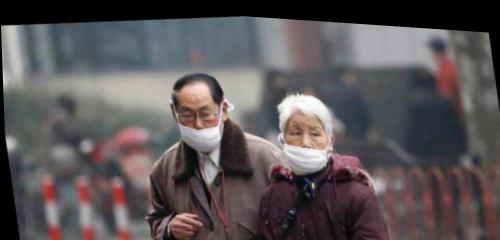WRONG: (175, 95, 227, 150), (280, 112, 328, 170)
